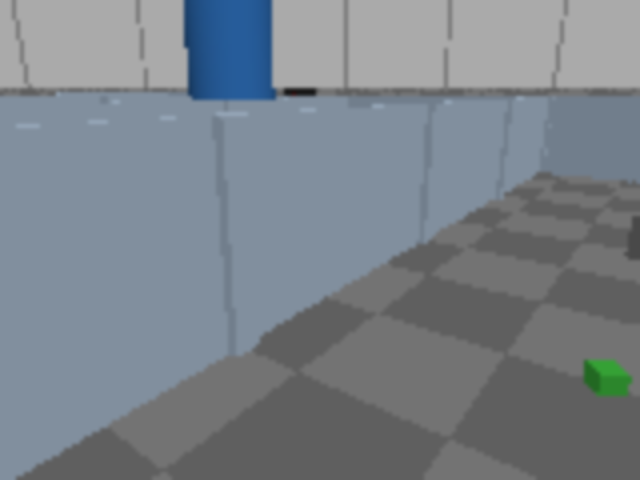obstacle: (625, 203, 638, 270)
puck: (582, 360, 632, 397)
